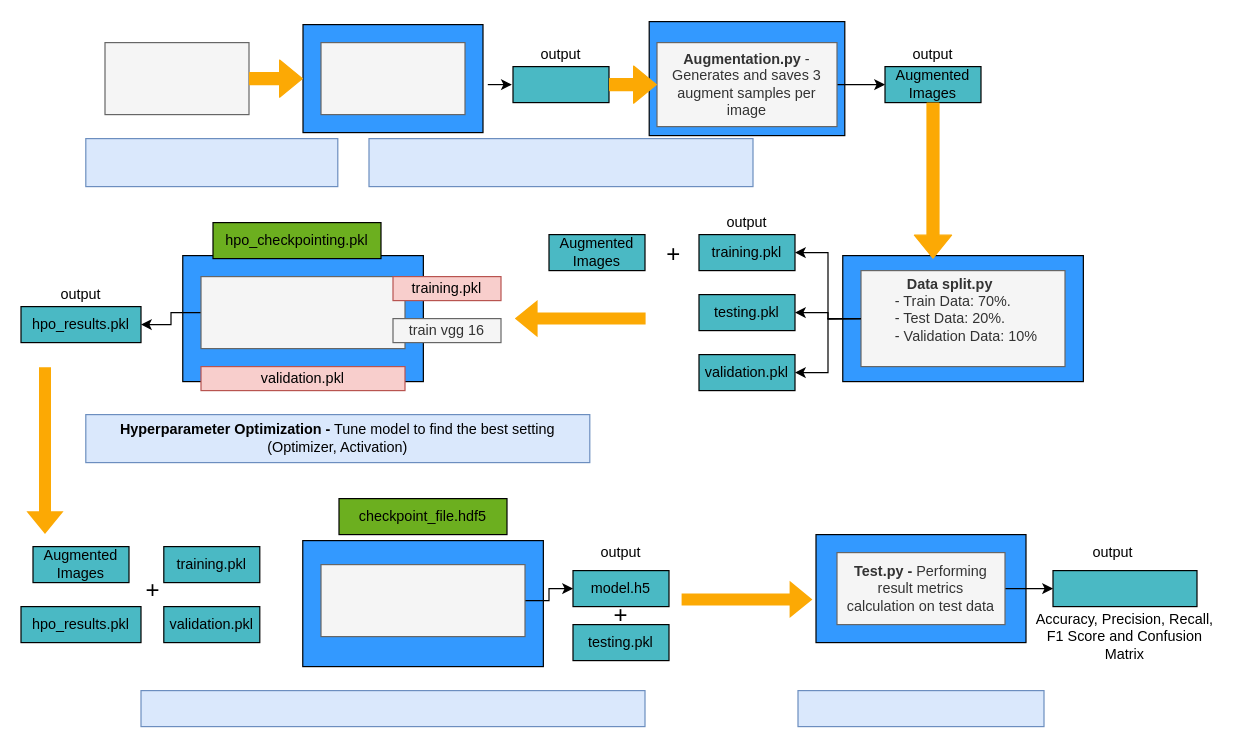
This 1242x748 diagram has some shape labels left out. Each missing label, with the centre of its shape:
Data Acquisition - Data is downloaded and saved to the cwd: the point at 211,162
Data Preprocessing - Resizing and Augmentation: the point at 560,162
hpo_checkpointing.py - Tune model using Optuna for keras (OptKeras) Lib.: the point at 302,312
PetImages - 10 cat images and 10 dog images: the point at 176,78
preprocess1.py - Resize images to a standard 200 x 200: the point at 392,78
Resized Images: the point at 560,84
Result_Metrics.txt: the point at 1124,588
Test Model: the point at 920,708
Train Model: the point at 392,708
train_model.py - Use the best optimization parameters to train model: the point at 422,600
